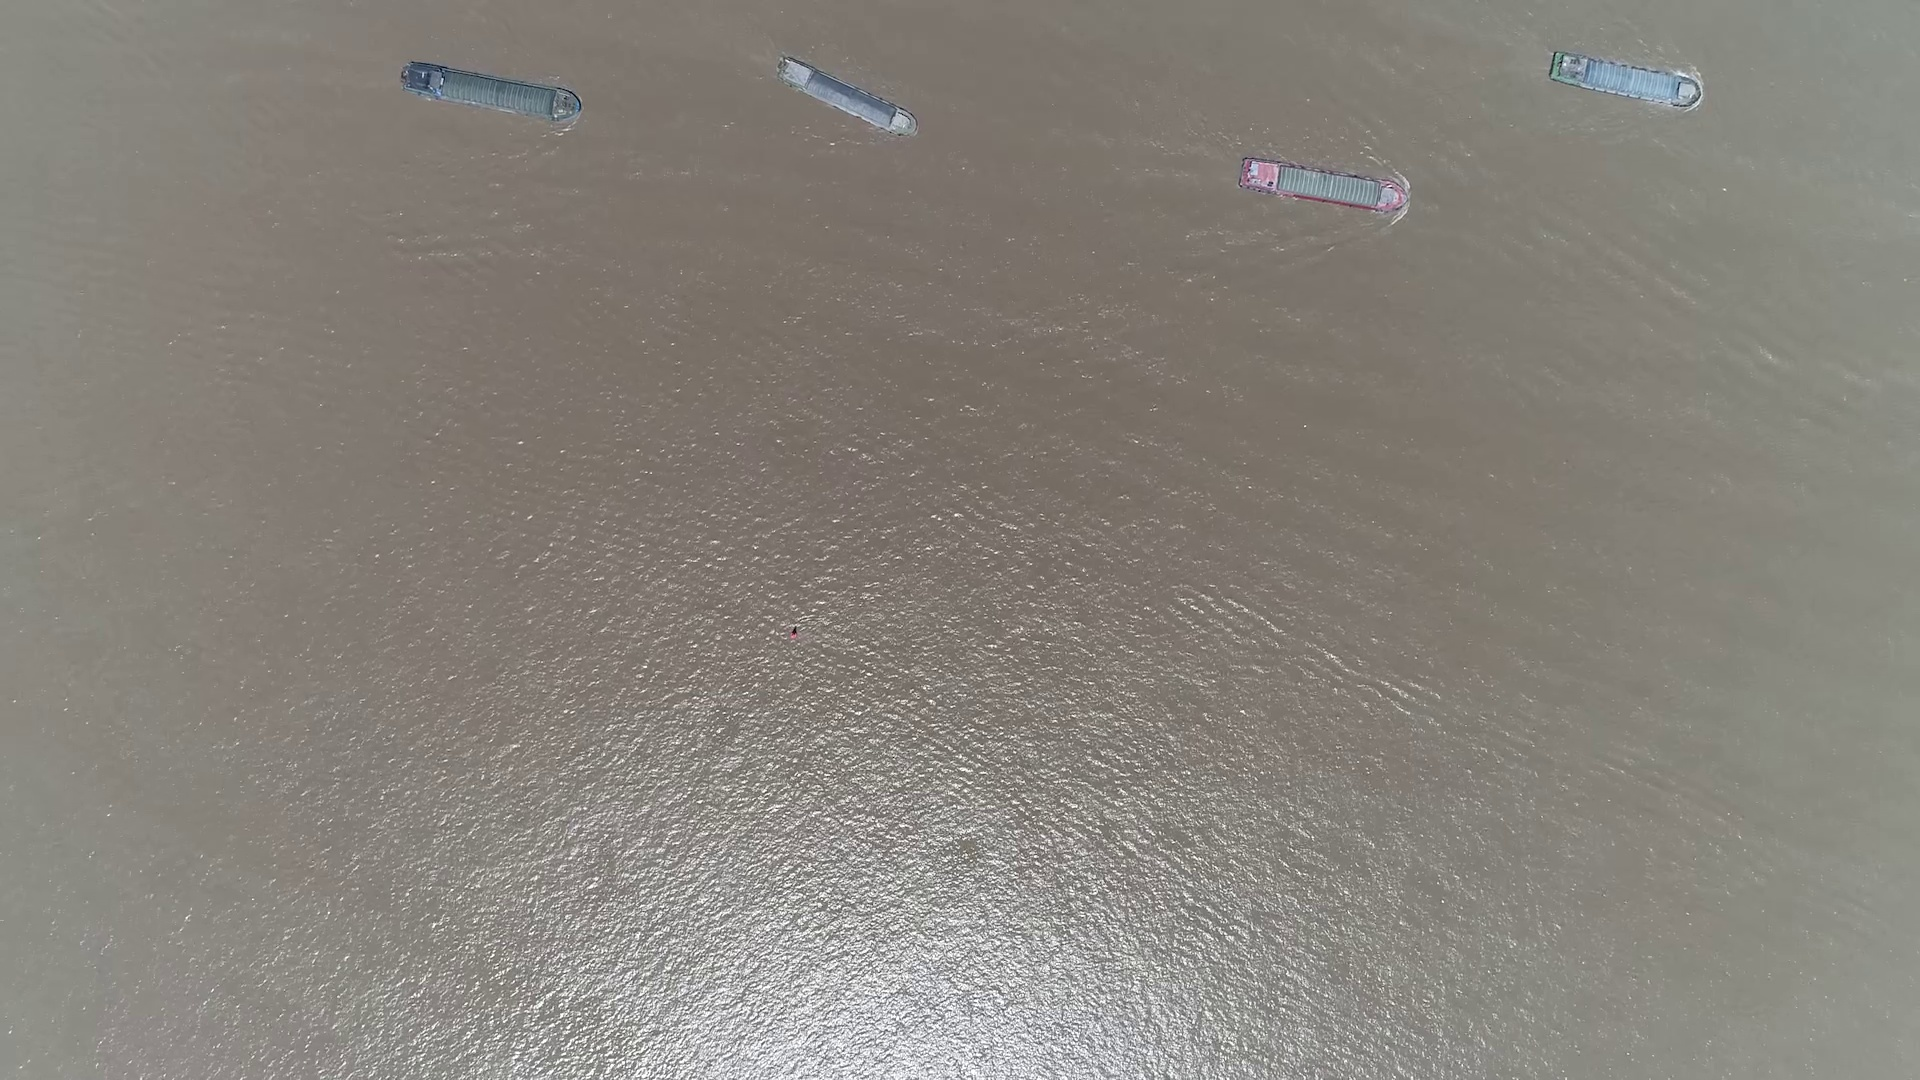ship: (401, 62, 582, 123), (775, 61, 916, 135), (1236, 158, 1410, 214), (1545, 55, 1700, 105)
